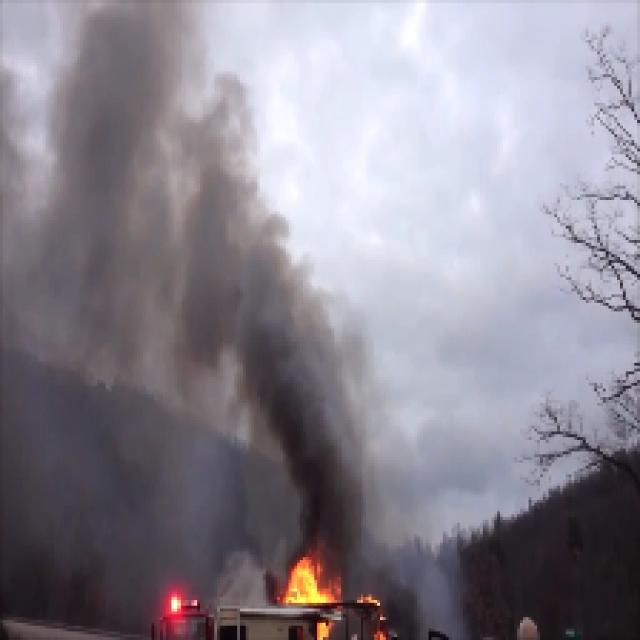fire: (283, 559, 325, 599)
smoke: (236, 304, 310, 402), (298, 411, 350, 541)
